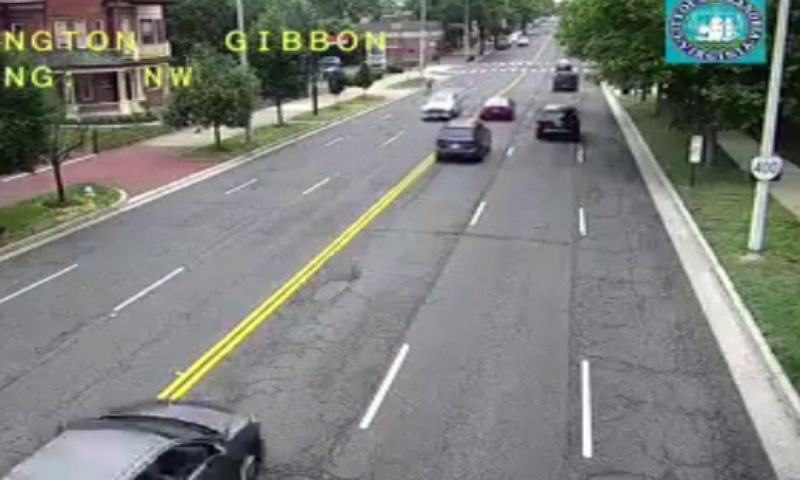car: (1, 403, 253, 480), (434, 120, 490, 157), (535, 105, 580, 137), (479, 97, 512, 119)
